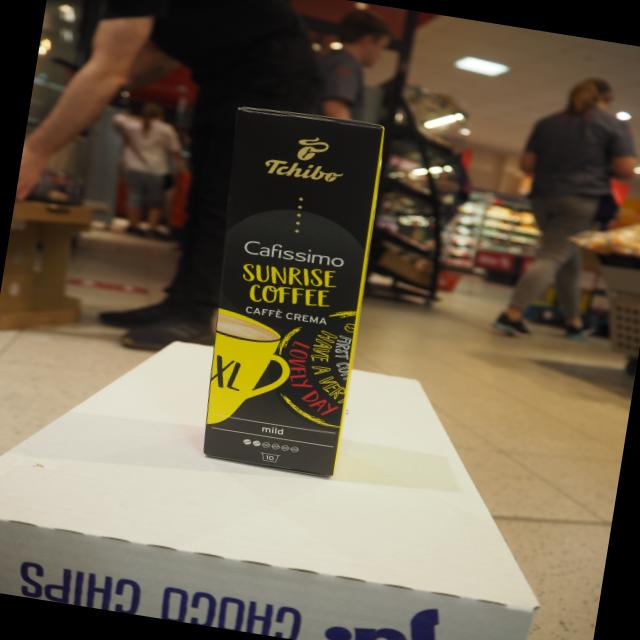Simo Sunrise: (198, 105, 386, 483)
